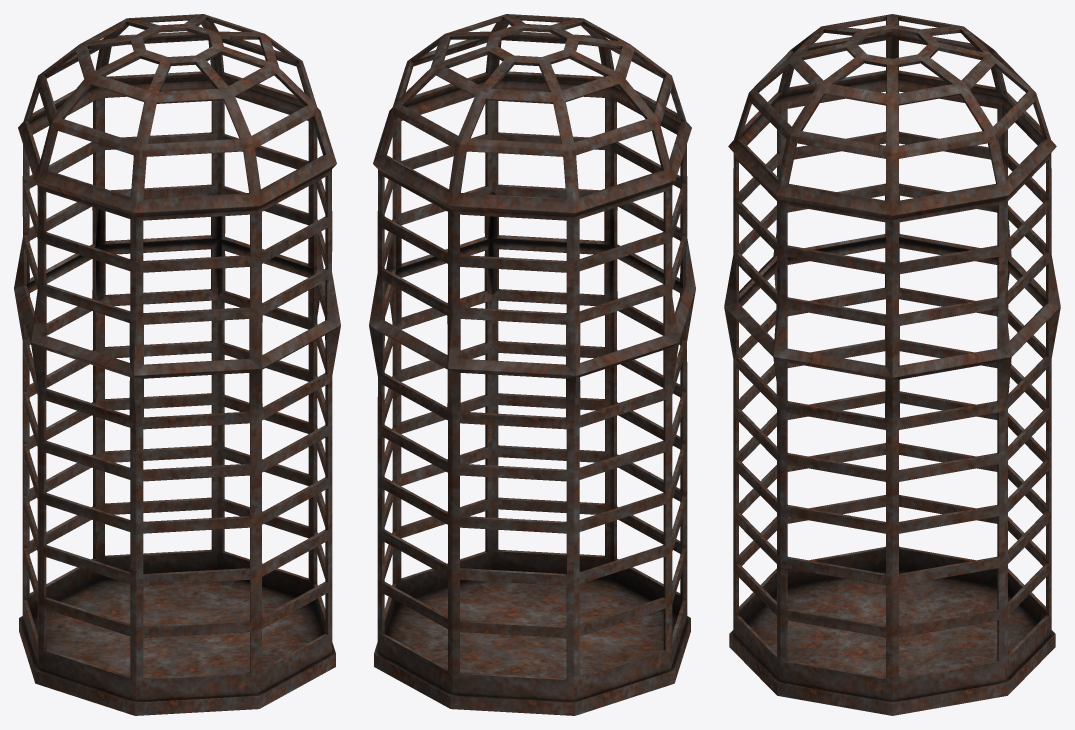
Rendered from rustcage_LOD.fbx.
The picture shows the model from 3 angles, left to right: view 1: azimuth 30°, elevation 25°; view 2: azimuth 150°, elevation 25°; view 3: azimuth 270°, elevation 25°; orthographic projection.
Visible parts, largest first — view 1: RustyCage_LOD0; view 2: RustyCage_LOD0; view 3: RustyCage_LOD0.
Boxes of the visible parts, x1,y1,x2,y2 form: RustyCage_LOD0: [14, 14, 340, 715]; RustyCage_LOD0: [369, 14, 695, 715]; RustyCage_LOD0: [724, 14, 1060, 715].
Size of what is drawn, in the model's own units: 1.01 by 2 by 1.01.
